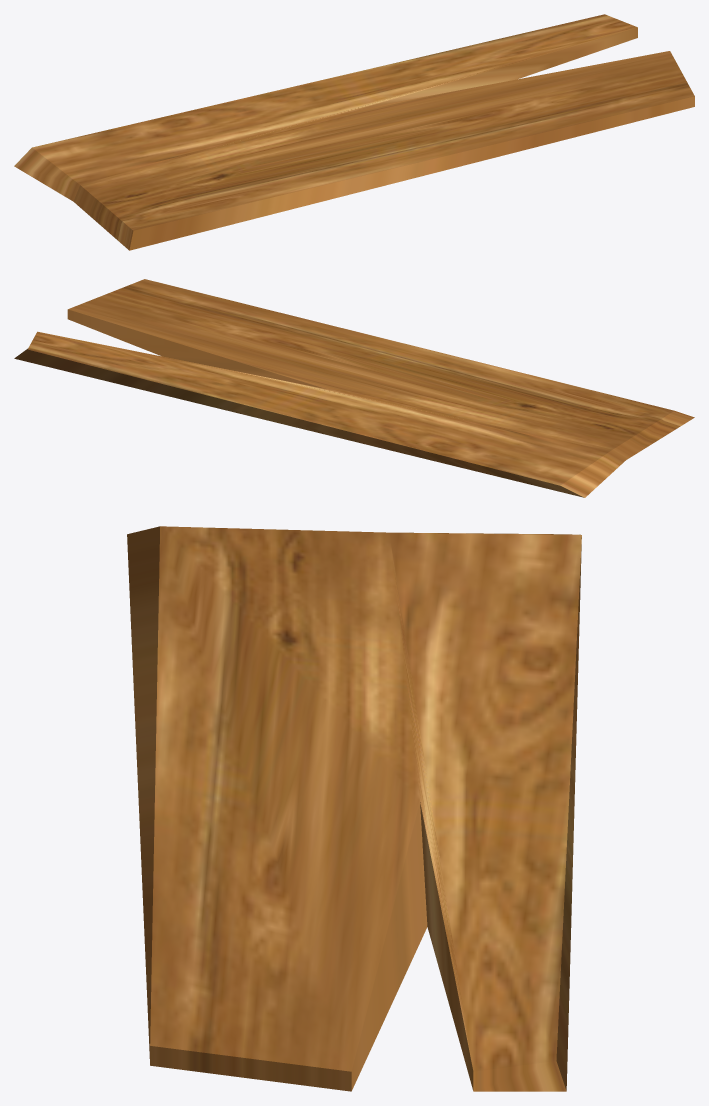
File: 20200816_WoodPanel_bloken1.fbx
3 views of the same model, one above another, from view 1: azimuth 30°, elevation 25°; view 2: azimuth 150°, elevation 25°; view 3: azimuth 270°, elevation 25° (orthographic). The views are drawn at different scales.
Visible parts, largest first — view 1: Plane.001; view 2: Plane.001; view 3: Plane.001.
Boxes of the visible parts, box(x1,y1,x2,y2) form: Plane.001: box(14, 14, 694, 250); Plane.001: box(14, 279, 694, 497); Plane.001: box(127, 526, 581, 1091).
Bounding box in the file's own units: 600 × 15.77 × 207.
